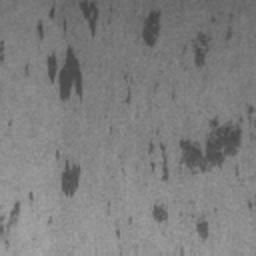Red iron sheet: (0, 1, 115, 101), (0, 147, 83, 248), (147, 104, 255, 180), (105, 197, 220, 256), (182, 10, 234, 69), (122, 70, 178, 104), (143, 13, 160, 47), (244, 197, 253, 210), (5, 118, 14, 128), (115, 151, 122, 160)
